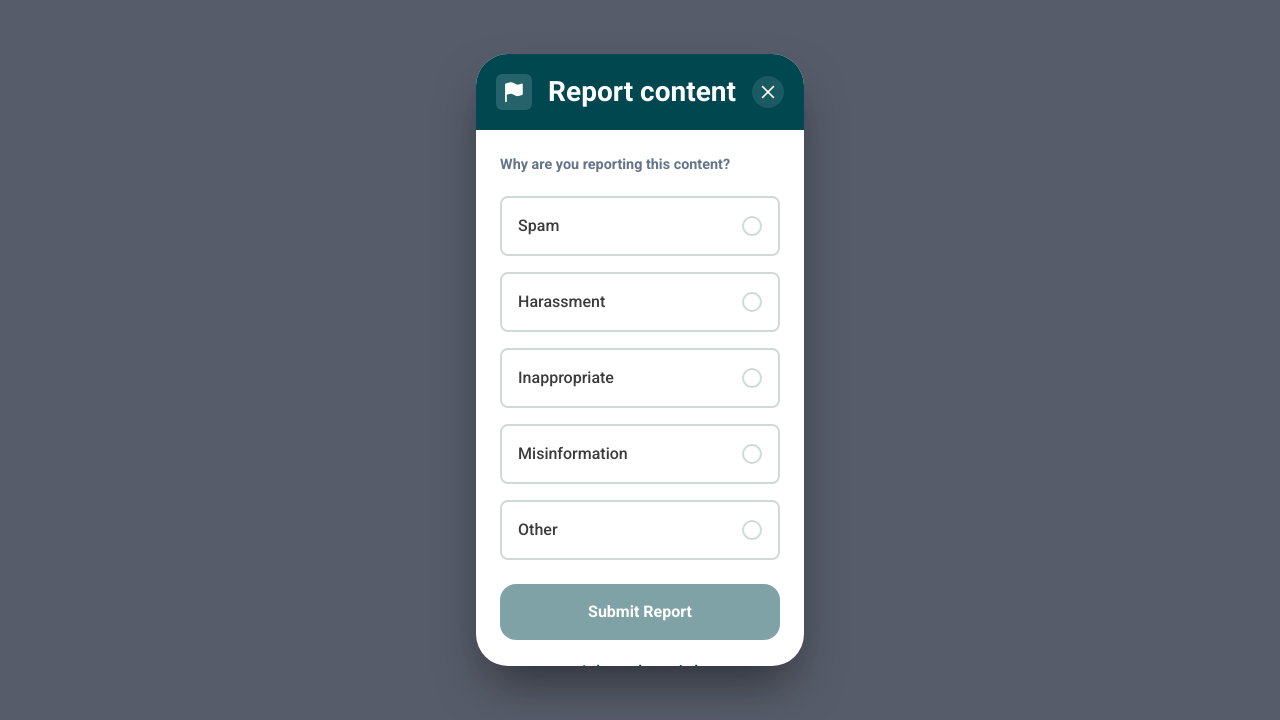
Scenario: ReportingModal.vue › toggles the submit button state based on tag selections
Expected: the button with class "btn-primary-action" is disabled, [500,584,780,640]
Click the button with class "reason-card" showing "Spam" at [539, 225], box [500,196,780,256]
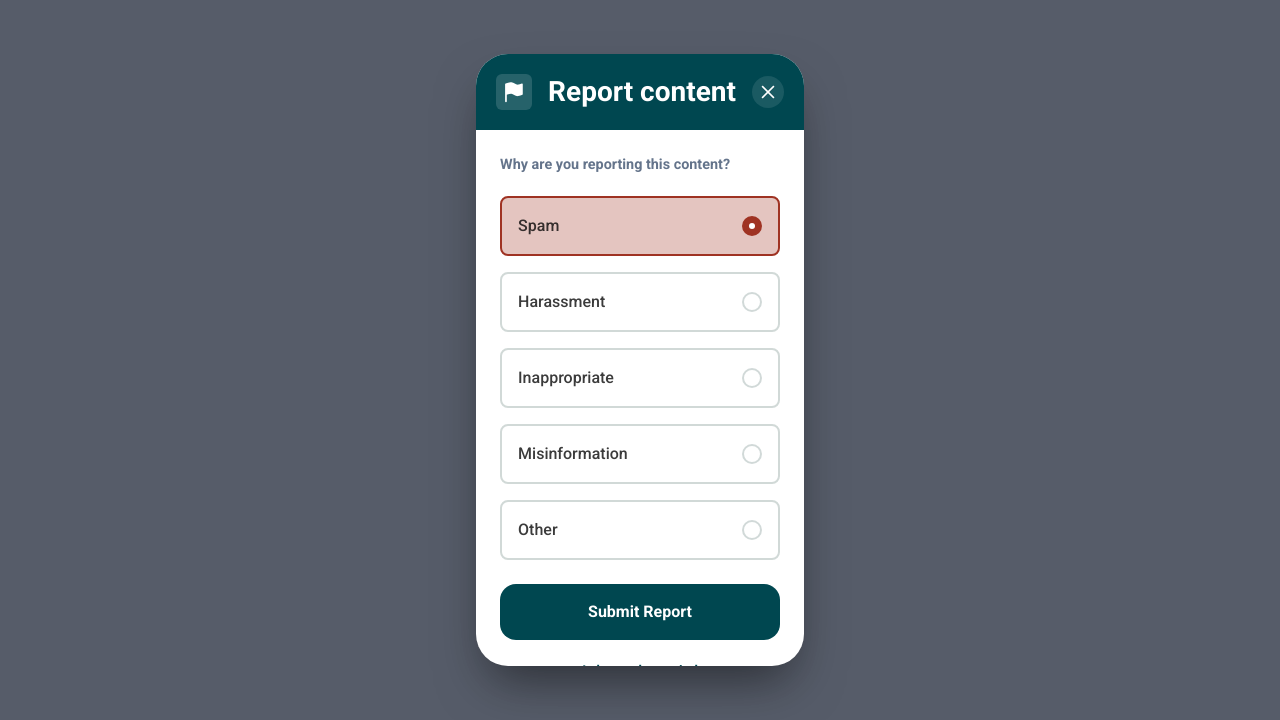
Result: the button with class "btn-primary-action" is enabled at [500,584,780,640]
Click the button with class "reason-card" showing "Spam" at [539, 225], box [500,196,780,256]
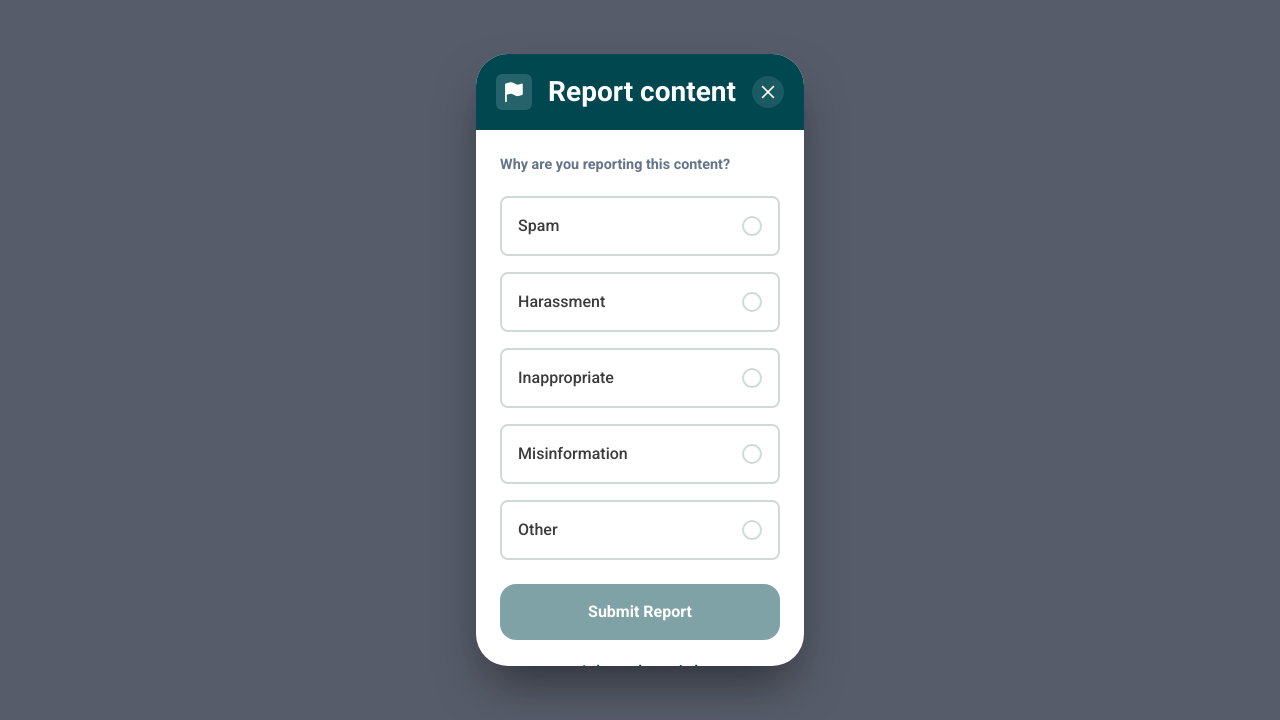
Result: the button with class "btn-primary-action" is disabled at [500,584,780,640]
